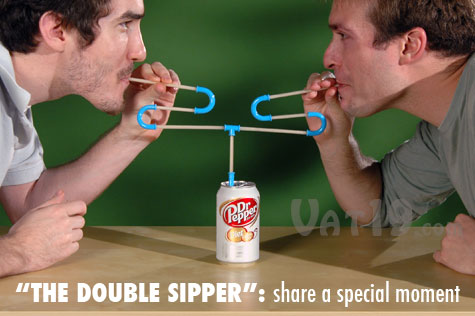drinking: (258, 3, 468, 204), (1, 1, 196, 194)
